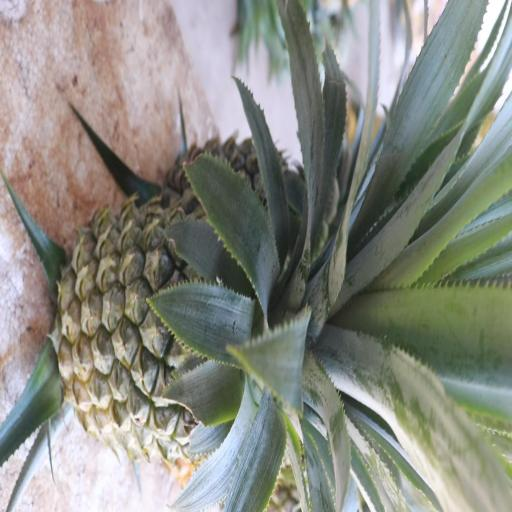------------------------------: (62, 202, 280, 461)
